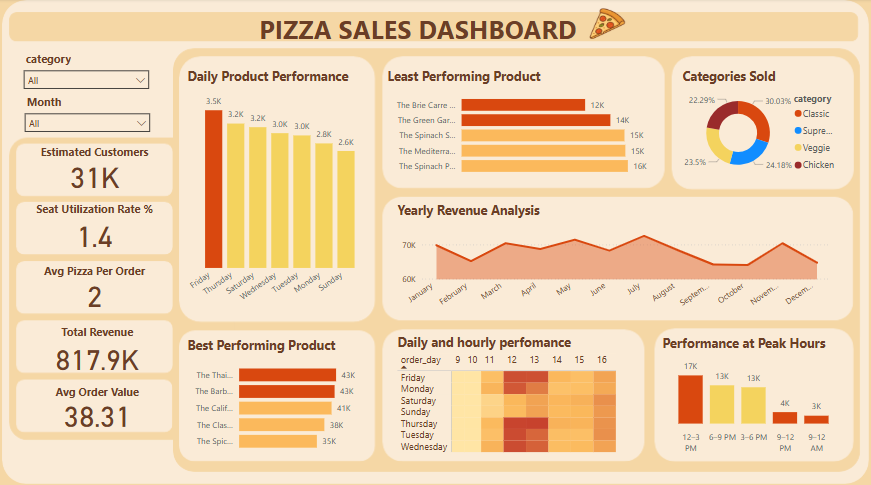

Layout of this report page (visuals, bound fields, positions):
{"tool":"powerbi","page":{"name":"Page 3","canvas":[1280,730],"ordinal":0},"visuals":[{"type":"areaChart","title":"Yearly Revenue Analysis","fields":{"Category":["order_details_enriched.date.Variation.Date Hierarchy.Month"],"Y":["order_details_enriched.Total Revenue"]},"box":[579.5,303.9,646.6,166.9],"z":0},{"type":"pivotTable","title":"Daily and hourly perfomance","fields":{"Rows":["order_details_enriched.order_day"],"Columns":["order_details_enriched.order_hour"],"Values":["Count(order_details_enriched.order_id)"]},"box":[579.5,503.6,351.6,187.7],"z":1000},{"type":"clusteredColumnChart","title":"Daily Product Performance","fields":{"Category":["order_details_enriched.order_day"],"Y":["Count(order_details_enriched.order_id)"]},"box":[270.9,102.2,269.3,365.3],"z":2000},{"type":"clusteredBarChart","title":"Least Performing Product","fields":{"Category":["order_details_enriched.name"],"Y":["order_details_enriched.Total Revenue"]},"box":[564.9,102.2,404,168.7],"z":3000},{"type":"clusteredBarChart","title":"Best Performing  Product","fields":{"Category":["order_details_enriched.name"],"Y":["order_details_enriched.Total Revenue"]},"box":[271.1,505,274.1,178.8],"z":4000},{"type":"donutChart","title":"Categories Sold","fields":{"Category":["order_details_enriched.category"],"Y":["Sum(order_details_enriched.quantity)"]},"box":[998.3,102.2,244.5,168.7],"z":5000},{"type":"clusteredColumnChart","title":"Performance at Peak Hours","fields":{"Y":["Sum(order_details_enriched.quantity)"],"Category":["order_details_enriched.Hour Block"]},"box":[968.4,500.6,274.1,183.2],"z":6000},{"type":"card","title":"Avg Order Value","fields":{"Values":["order_details_enriched.Avg Order Value"]},"box":[31.3,573.6,211.6,68.5],"z":7000},{"type":"card","title":"Total Revenue","fields":{"Values":["order_details_enriched.Total Revenue"]},"box":[37.1,479.8,212,75.8],"z":8000},{"type":"card","title":"Avg Pizza Per Order","fields":{"Values":["order_details_enriched.Avg Pizzas per Order"]},"box":[37.2,396.3,204.1,70],"z":9000},{"type":"card","title":"Seat Utilization Rate  %","fields":{"Values":["order_details_enriched.Seating Utilization Rate (%)"]},"box":[37.2,306.9,204.1,73],"z":10000},{"type":"card","title":" Estimated Customers","fields":{"Values":["order_details_enriched.Total Estimated Customers"]},"box":[37.2,220.5,204.1,70],"z":11000},{"type":"textbox","box":[241,16.2,746.4,70.5],"z":12000},{"type":"slicer","fields":{"Values":["order_details_enriched.category"]},"box":[24.8,74.3,204.3,63.5],"z":13000},{"type":"slicer","fields":{"Values":["order_details_enriched.order_date.Variation.Date Hierarchy.Month"]},"box":[26.3,137.8,204.3,68.1],"z":14000},{"type":"image","box":[852.8,4.6,78.9,69.6],"z":15000}]}

Visuals, with their boxes in screenshot pixels (x1, y1, x2, y2), scaled from the page's 1280x730 canvas onto the 871x485 screenshot:
"Yearly Revenue Analysis" areaChart: (394,202,834,313)
"Daily and hourly perfomance" pivotTable: (394,335,634,459)
"Daily Product Performance" clusteredColumnChart: (184,68,368,311)
"Least Performing Product" clusteredBarChart: (384,68,659,180)
"Best Performing  Product" clusteredBarChart: (184,336,371,454)
"Categories Sold" donutChart: (679,68,846,180)
"Performance at Peak Hours" clusteredColumnChart: (659,333,845,454)
"Avg Order Value" card: (21,381,165,427)
"Total Revenue" card: (25,319,170,369)
"Avg Pizza Per Order" card: (25,263,164,310)
"Seat Utilization Rate  %" card: (25,204,164,252)
" Estimated Customers" card: (25,146,164,193)
textbox: (164,11,672,58)
slicer - order_details_enriched.category: (17,49,156,92)
slicer - order_details_enriched.order_date.Variation.Date Hierarchy.Month: (18,92,157,137)
image: (580,3,634,49)
